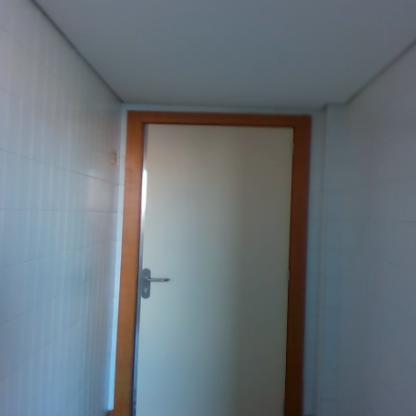door: (136, 127, 290, 416)
hinged: (283, 399, 290, 415), (286, 268, 292, 284), (291, 141, 296, 155)
lever: (144, 273, 176, 287)
